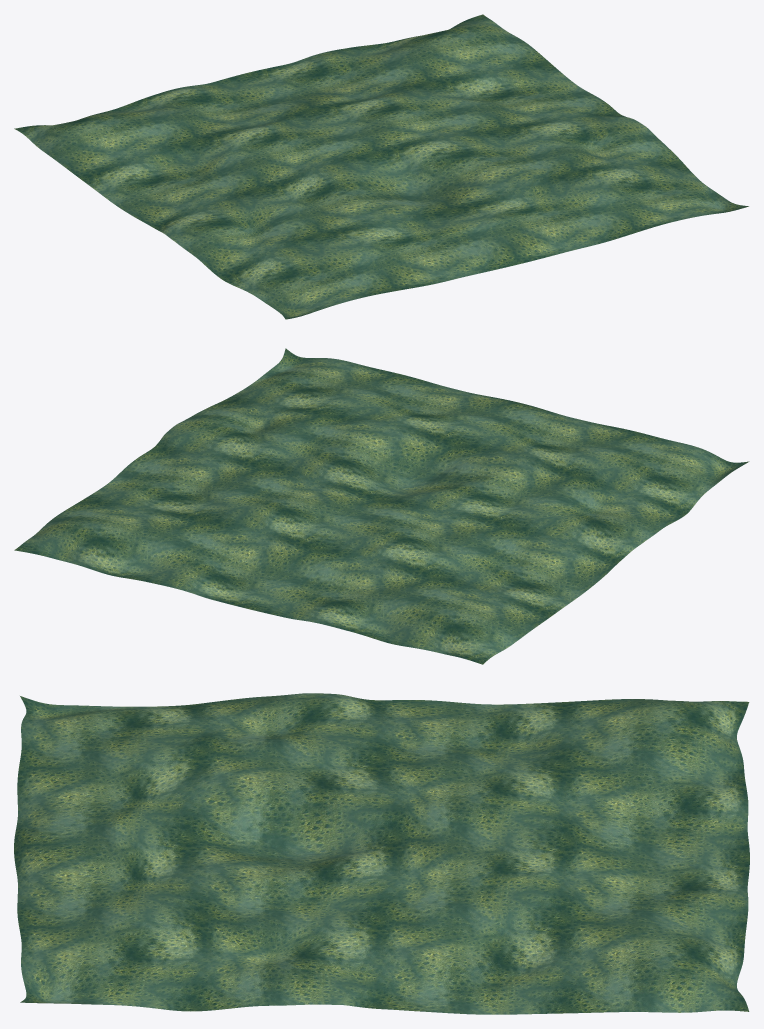
Rendered from ground.glb.
The picture shows the model from 3 angles, top to bottom: view 1: azimuth 30°, elevation 25°; view 2: azimuth 150°, elevation 25°; view 3: azimuth 270°, elevation 25°; orthographic projection. The views are drawn at different scales.
Visible parts, largest first — view 1: Plane; view 2: Plane; view 3: Plane.
Boxes of the visible parts, bbox=[...] form: Plane: bbox=[14, 14, 748, 319]; Plane: bbox=[14, 348, 749, 664]; Plane: bbox=[14, 693, 749, 1014].
Size of the model in its own units: 410 by 17.93 by 407.
Materials: 1 (1 with a texture image).
